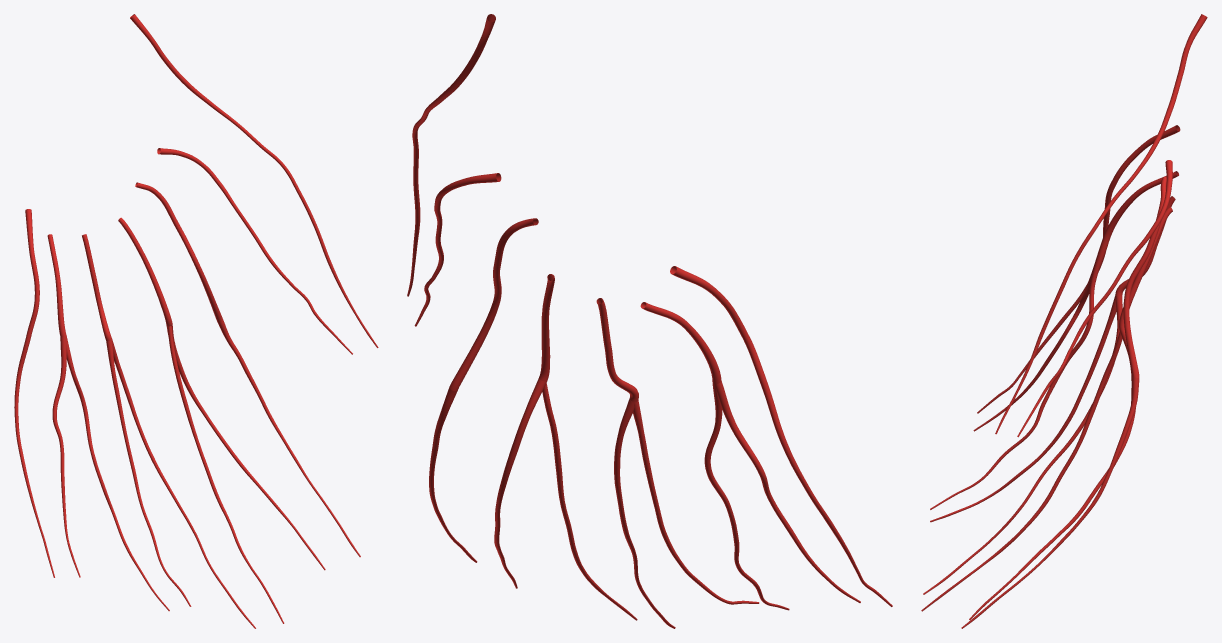
File: circulatorio-common-palmar-digital-arteries-l.glb
3 renders of one model, left to right at view 1: azimuth 30°, elevation 25°; view 2: azimuth 150°, elevation 25°; view 3: azimuth 270°, elevation 25°, orthographic. The views are drawn at different scales.
Visible parts, largest first — view 1: Proper palmar digital arteries.l, Common palmar digital arteries.l; view 2: Proper palmar digital arteries.l, Common palmar digital arteries.l; view 3: Proper palmar digital arteries.l, Common palmar digital arteries.l.
Boxes of the visible parts, x1,y1,x2,y2 form: Proper palmar digital arteries.l: (14,14,378,628); Common palmar digital arteries.l: (47,182,223,341); Proper palmar digital arteries.l: (407,14,892,628); Common palmar digital arteries.l: (449,218,721,402); Proper palmar digital arteries.l: (921,14,1207,628); Common palmar digital arteries.l: (1101,171,1178,377).
Bounding box in the file's own units: 0.107 × 0.1608 × 0.0714.
